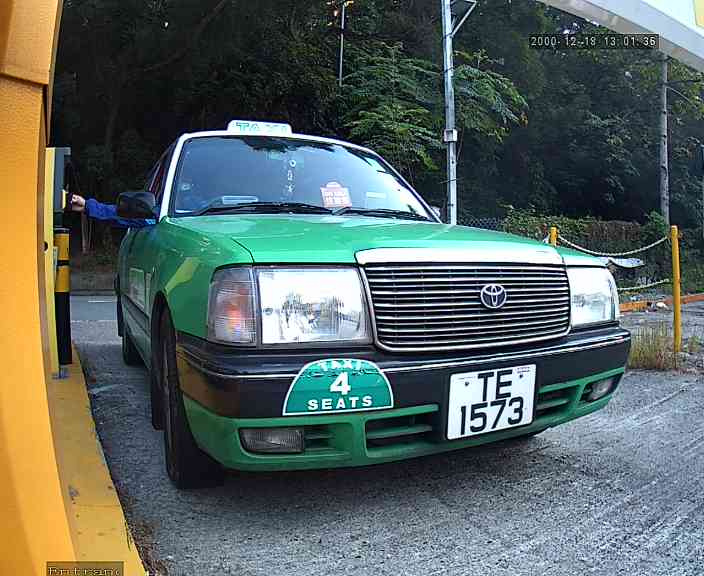bottom_left_lp: (444, 434, 453, 441)
bottom_left_radiator: (374, 338, 382, 349)
bottom_left_windshield: (161, 205, 178, 220)
bottom_right_lp: (526, 417, 534, 423)
bottom_right_radiator: (561, 325, 573, 339)
bottom_right_windshield: (426, 214, 447, 225)
brand: (479, 280, 507, 309)
left_headlight: (218, 258, 372, 350)
right_headlight: (563, 259, 619, 333)
top_left_lp: (446, 371, 458, 383)
top_left_radiator: (355, 258, 373, 270)
top_left_windshield: (182, 134, 194, 144)
top_right_lp: (531, 360, 539, 369)
top_right_radiator: (558, 258, 567, 271)
top_right_windshield: (366, 150, 378, 160)
